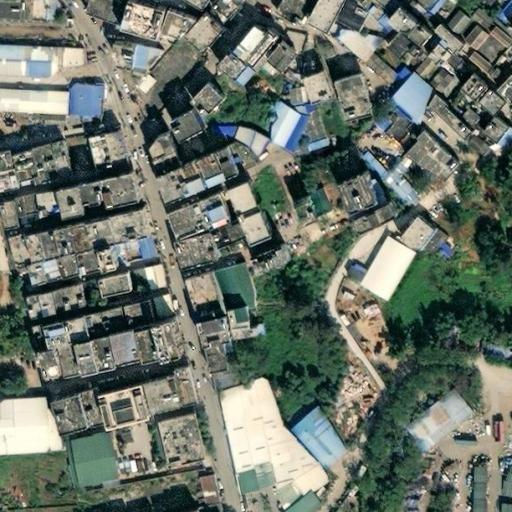building: (212, 381, 320, 512), (398, 389, 468, 453), (351, 238, 409, 303), (283, 408, 341, 468), (352, 150, 410, 208), (152, 415, 203, 469), (0, 397, 46, 453), (399, 135, 453, 182), (385, 74, 434, 122), (59, 393, 106, 442), (106, 390, 157, 435), (230, 24, 277, 72), (263, 103, 302, 154), (424, 99, 470, 142), (78, 338, 123, 381), (212, 264, 252, 312), (188, 276, 227, 325), (369, 103, 412, 146), (165, 205, 211, 245), (175, 233, 219, 274), (151, 77, 195, 118), (123, 2, 167, 42), (288, 103, 320, 152), (78, 224, 123, 258), (184, 17, 223, 56), (34, 144, 72, 184), (50, 320, 96, 353), (337, 79, 371, 123), (89, 133, 126, 172), (39, 287, 83, 319), (47, 347, 85, 383), (114, 332, 148, 372), (148, 380, 183, 418), (99, 171, 137, 206), (357, 54, 393, 89), (117, 216, 154, 250), (216, 52, 251, 86), (161, 173, 194, 209), (207, 222, 244, 254), (360, 209, 400, 238), (261, 44, 295, 78), (400, 220, 433, 254), (346, 181, 380, 214), (169, 113, 203, 146), (204, 323, 238, 356), (140, 327, 166, 369), (190, 87, 223, 120), (201, 197, 233, 231), (183, 166, 213, 202), (60, 86, 96, 116), (332, 31, 365, 63), (250, 248, 287, 276), (246, 217, 276, 251), (391, 4, 422, 36), (164, 324, 190, 362), (233, 186, 262, 220), (99, 308, 129, 340), (18, 48, 50, 78), (278, 20, 310, 50), (371, 2, 401, 33), (123, 305, 155, 334), (303, 76, 331, 108), (30, 189, 59, 219), (227, 126, 259, 153), (202, 160, 227, 192), (57, 184, 82, 216), (451, 23, 479, 51), (76, 179, 104, 207), (169, 16, 198, 43), (298, 199, 323, 230), (149, 136, 176, 164), (430, 27, 459, 53), (206, 372, 236, 397), (424, 40, 451, 67), (42, 234, 67, 263), (217, 153, 240, 184), (404, 57, 431, 83), (190, 474, 212, 505), (5, 236, 27, 267), (458, 6, 484, 32), (438, 10, 464, 36), (382, 34, 408, 60), (97, 278, 129, 299), (12, 167, 41, 190), (459, 79, 485, 104), (153, 155, 181, 178), (8, 151, 37, 173), (418, 68, 443, 93), (474, 92, 499, 117), (334, 261, 360, 285), (11, 194, 35, 220), (492, 77, 512, 107), (28, 236, 48, 266), (409, 26, 433, 50), (56, 257, 80, 281), (62, 232, 83, 259), (234, 325, 263, 344), (147, 296, 168, 322), (138, 266, 159, 292), (458, 52, 482, 74), (116, 49, 141, 70), (463, 134, 486, 156), (89, 314, 106, 343), (481, 27, 503, 49), (207, 352, 229, 374), (25, 295, 44, 320), (137, 46, 156, 71), (475, 117, 496, 139), (487, 125, 507, 148), (40, 261, 60, 283), (109, 255, 126, 280), (231, 149, 249, 172), (231, 313, 253, 331), (382, 436, 400, 458), (31, 325, 48, 348), (127, 73, 146, 93), (208, 126, 233, 141), (255, 62, 274, 81), (27, 265, 44, 286), (110, 66, 126, 88), (214, 483, 226, 512), (493, 487, 511, 505), (54, 48, 74, 64), (279, 87, 296, 105), (488, 106, 505, 123), (402, 45, 419, 62), (70, 115, 94, 127), (379, 460, 391, 484), (494, 473, 512, 488), (315, 127, 329, 146), (465, 484, 481, 500), (465, 469, 481, 484), (132, 246, 148, 260), (389, 68, 403, 82), (390, 157, 405, 170), (355, 304, 371, 316), (478, 67, 491, 81), (465, 500, 480, 512), (445, 63, 458, 76), (480, 346, 495, 356), (488, 55, 500, 67), (493, 504, 510, 512), (330, 316, 340, 327), (496, 25, 507, 35), (321, 111, 330, 123), (441, 340, 455, 347), (459, 341, 471, 349), (188, 497, 197, 506), (395, 474, 415, 478), (390, 164, 398, 172), (473, 342, 485, 347), (504, 352, 512, 359), (421, 479, 427, 488)
